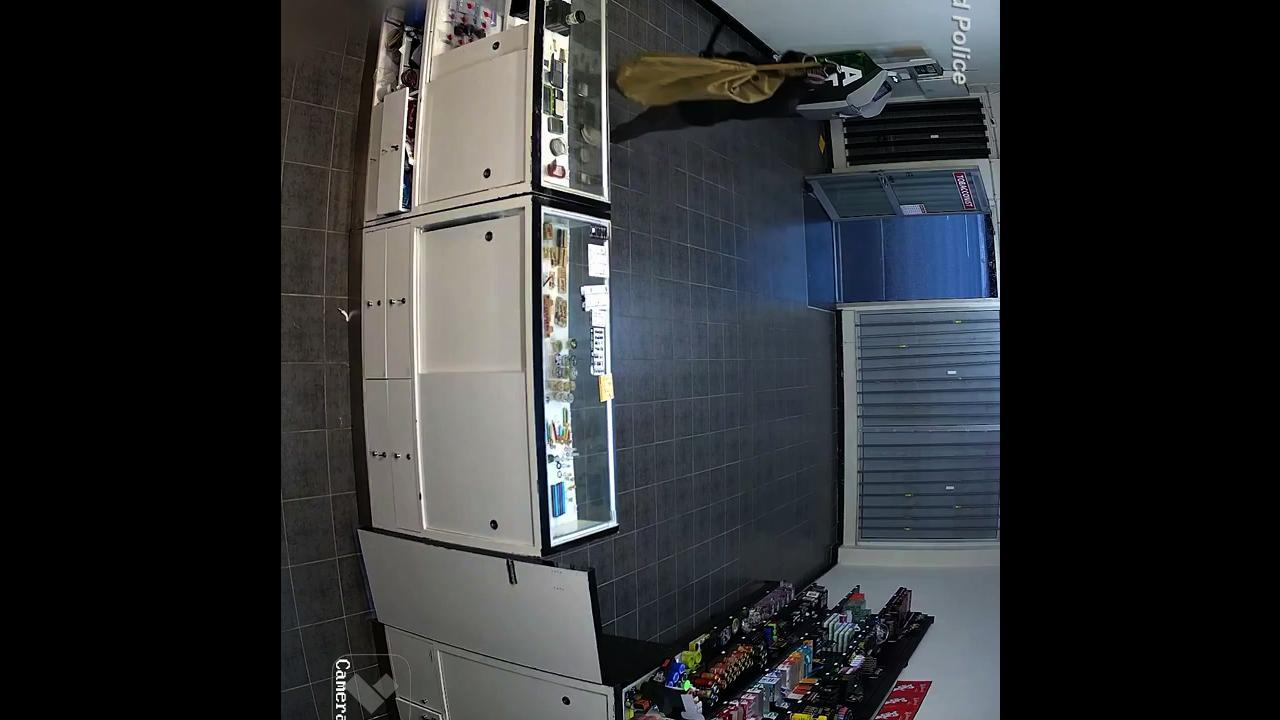melee: (692, 17, 734, 63)
